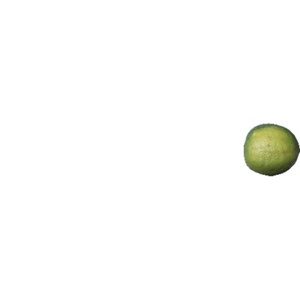limão: (244, 124, 300, 176)
